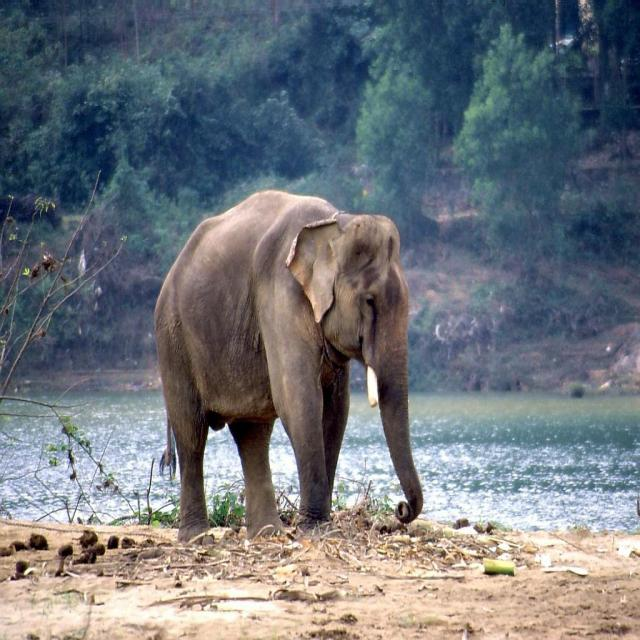Elephant: (153, 188, 424, 542)
